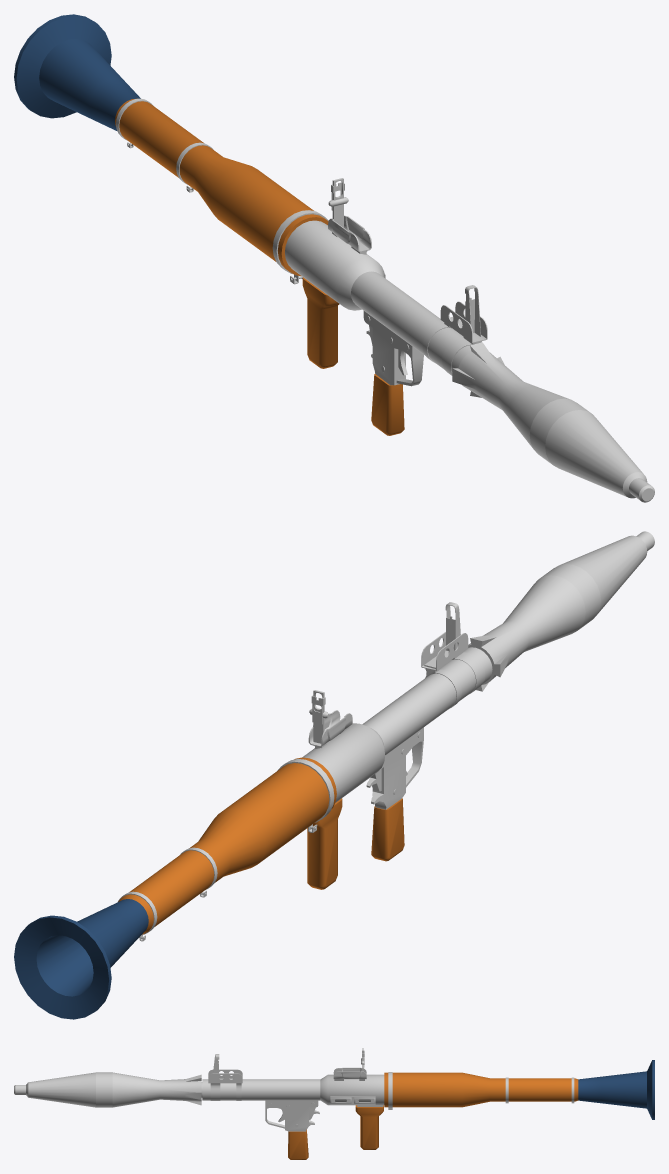
The model's file is RPG-7.fbx.
3 views of the same model, one above another, from view 1: azimuth 30°, elevation 25°; view 2: azimuth 150°, elevation 25°; view 3: azimuth 270°, elevation 25° (orthographic). The views are drawn at different scales.
Visible parts, largest first — view 1: RPG-7, Grenade shot; view 2: RPG-7, Grenade shot; view 3: RPG-7, Grenade shot.
Boxes of the visible parts, x1,y1,x2,y2 form: RPG-7: (14,14,487,435); Grenade shot: (452,342,654,502); RPG-7: (14,602,492,1019); Grenade shot: (468,531,654,691); RPG-7: (202,1048,654,1159); Grenade shot: (14,1072,202,1107).
Bounding box in the file's own units: 128 × 263 × 1370.
